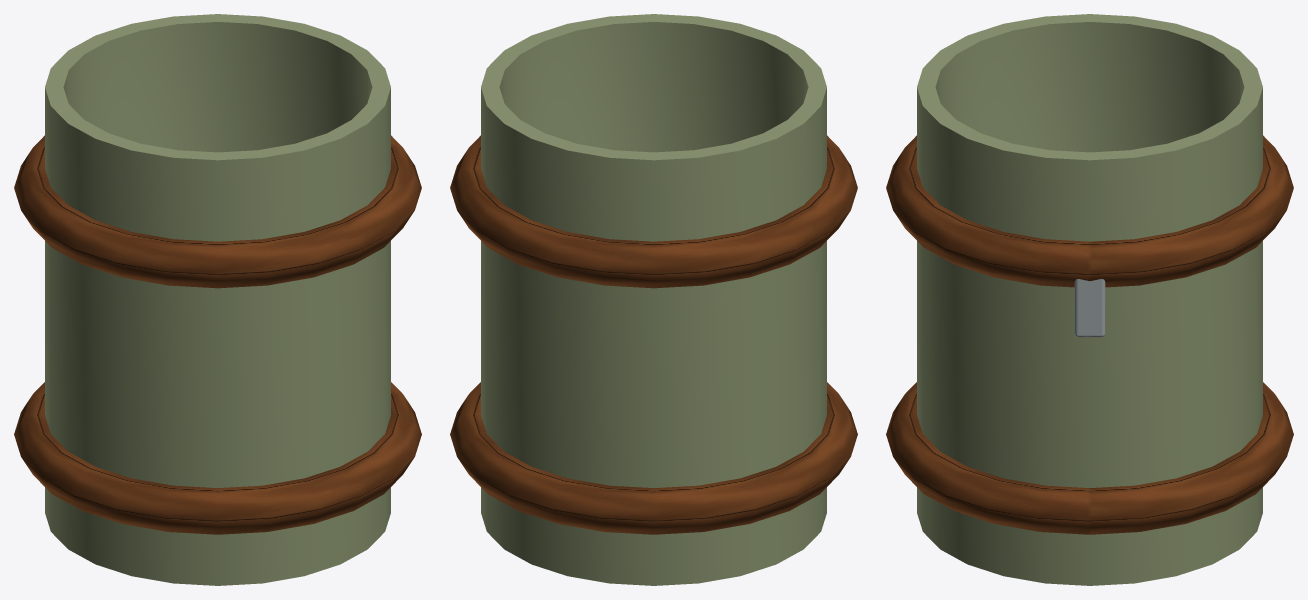
The model's file is creature-husbandry-and-transport-protective-leg-wrap-715225d9__24021.glb.
3 renders of one model, left to right at view 1: azimuth 30°, elevation 25°; view 2: azimuth 150°, elevation 25°; view 3: azimuth 270°, elevation 25°, orthographic.
Parts seen in each view (by area): view 1: protective-leg-wrap; view 2: protective-leg-wrap; view 3: protective-leg-wrap.
Part boxes in pixels (x1,y1,x2,y2): protective-leg-wrap: (14,14,421,585); protective-leg-wrap: (450,14,857,585); protective-leg-wrap: (886,14,1293,585).
Size of the model in its own units: 0.33 by 0.4 by 0.33.
Materials: 3 (1 with a texture image).
